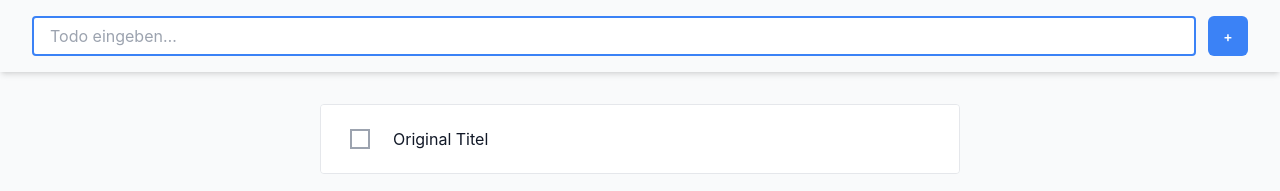
it: FEAT-4 – Todo bearbeiten (Inline-Editing) › Escape verwirft Änderung und stellt Original wieder her
Step 1. Double-click the button "Original Titel" → (441, 139), box [393,129,488,149]
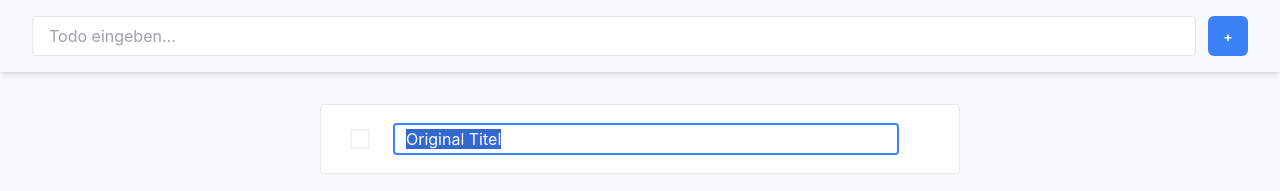
Step 2. Replace the text in the field named "todo-titel bearbeiten" with "Verändert" → (646, 139), box [393,123,899,155]
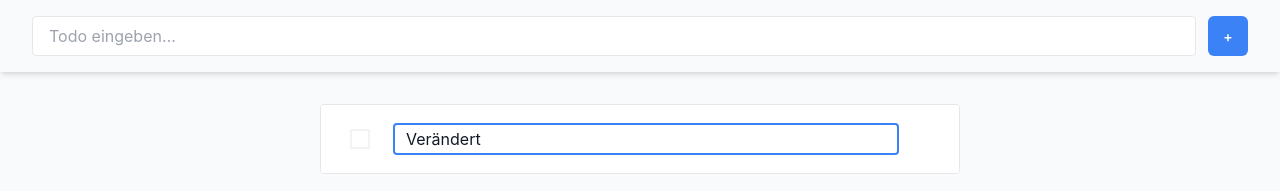
Step 3. Type keys "[Escape]"
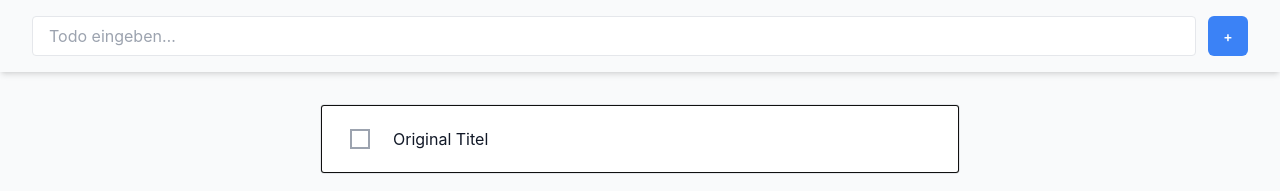
Expected: the button "Original Titel" is shown, [393,129,488,149]
